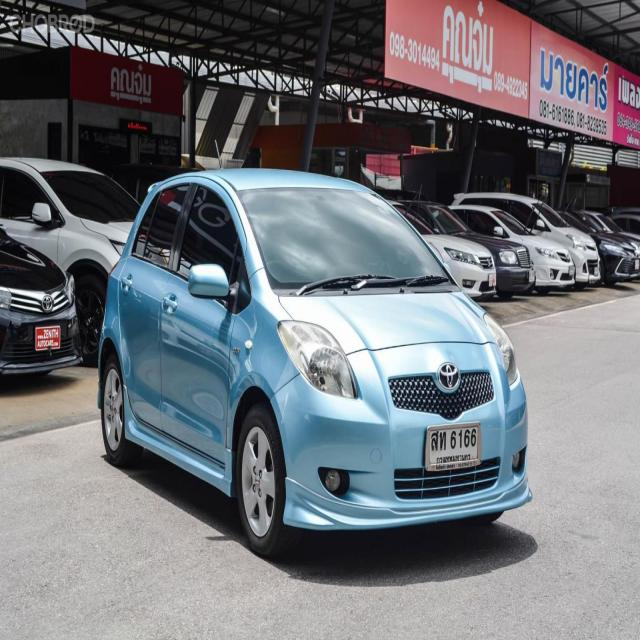license_plate: (424, 419, 484, 474), (35, 325, 62, 352), (488, 272, 498, 288), (528, 268, 538, 283), (568, 263, 575, 276), (633, 257, 640, 270), (594, 266, 600, 276)
